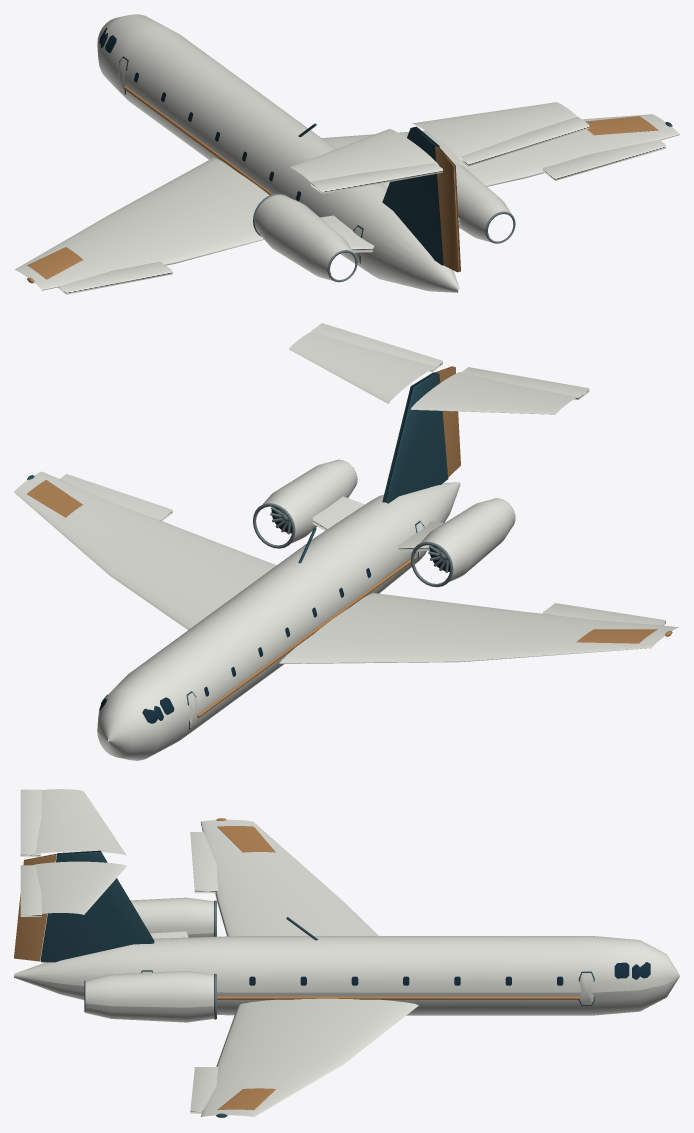
The model's file is player-meridian-hero-v1.glb.
3 renders of one model, top to bottom at view 1: azimuth 30°, elevation 25°; view 2: azimuth 150°, elevation 25°; view 3: azimuth 270°, elevation 25°, orthographic. The views are drawn at different scales.
Visible parts, largest first — view 1: hull, trim, accent, rudder, elevator-right, aileron-right, elevator-left, aileron-left, metal, cabin; view 2: hull, trim, accent, metal, elevator-right, aileron-right, elevator-left, aileron-left, rudder, cabin; view 3: hull, trim, accent, rudder, elevator-left, aileron-left, elevator-right, aileron-right, cabin.
Boxes of the visible parts, box(x1,y1,x2,y2) form: hull: box(14, 14, 679, 292); trim: box(119, 56, 443, 265); accent: box(27, 86, 658, 283); rudder: box(435, 146, 460, 272); elevator-right: box(458, 117, 589, 166); aileron-right: box(543, 139, 665, 180); elevator-left: box(311, 163, 442, 193); aileron-left: box(57, 261, 172, 294); metal: box(253, 193, 515, 282); cabin: box(99, 28, 300, 200); hull: box(14, 332, 678, 760); trim: box(186, 372, 448, 729); accent: box(27, 480, 672, 718); metal: box(253, 459, 515, 587); elevator-right: box(311, 323, 442, 372); aileron-right: box(60, 474, 172, 520); elevator-left: box(461, 367, 589, 400); aileron-left: box(543, 603, 665, 625); rudder: box(435, 366, 460, 477); cabin: box(99, 568, 371, 723); hull: box(14, 789, 679, 1117); trim: box(40, 850, 594, 1005); accent: box(216, 818, 579, 1110); rudder: box(14, 853, 56, 961); elevator-left: box(20, 789, 41, 856); aileron-left: box(190, 832, 218, 893); elevator-right: box(20, 865, 41, 916); aileron-right: box(190, 1067, 218, 1113); cabin: box(249, 962, 650, 985).
Bounding box in the file's own units: 21.16 × 5.34 × 20.
